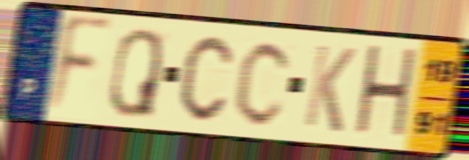C: (232, 37, 296, 129), (178, 33, 235, 124)
F: (43, 12, 116, 120)
H: (351, 41, 420, 145)
K: (300, 41, 358, 136)
Q: (107, 25, 165, 121)
